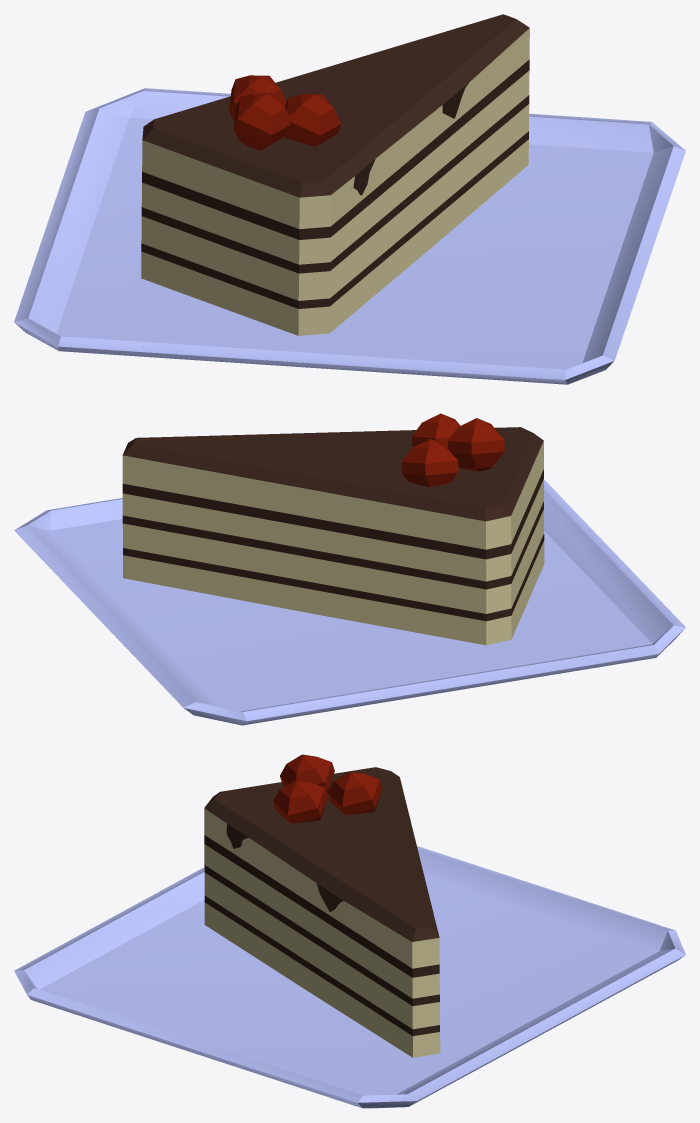
Rendered from tartita.fbx.
3 renders of one model, top to bottom at view 1: azimuth 30°, elevation 25°; view 2: azimuth 150°, elevation 25°; view 3: azimuth 270°, elevation 25°, orthographic. The views are drawn at different scales.
Visible parts, largest first — view 1: cheesecake.001; view 2: cheesecake.001; view 3: cheesecake.001.
Boxes of the visible parts, left/top/right/bottom form: cheesecake.001: left=14, top=14, right=685, bottom=384; cheesecake.001: left=14, top=413, right=685, bottom=725; cheesecake.001: left=14, top=754, right=685, bottom=1108.
Size of the model in its own units: 32.7 by 9.72 by 33.
